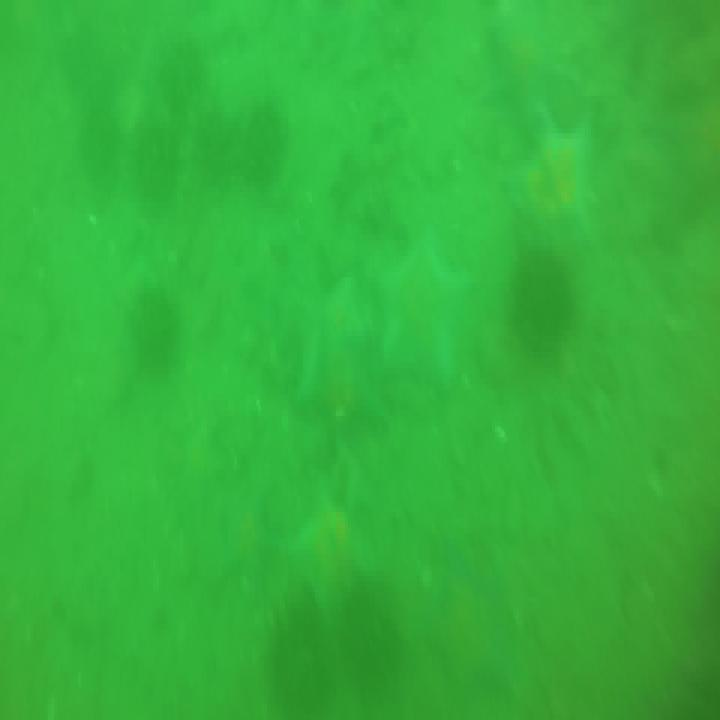echinus: (508, 245, 568, 358), (341, 595, 404, 700), (56, 6, 125, 95), (273, 629, 328, 720), (150, 29, 200, 92), (74, 105, 116, 178), (131, 113, 173, 186), (138, 291, 178, 358), (253, 104, 286, 173)
starfish: (367, 226, 471, 378), (501, 103, 601, 245), (428, 559, 518, 701), (279, 494, 380, 612), (290, 272, 368, 405), (223, 485, 272, 581)
